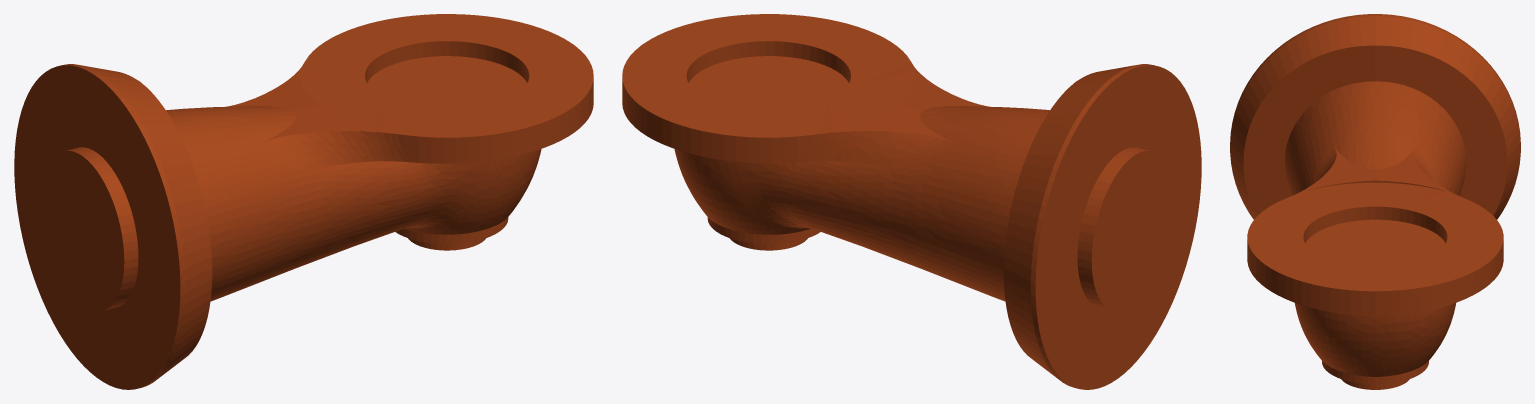
Rendered from like_kr240r2900_link_4_visuals_link_4_Scene_mesh.obj.
The picture shows the model from 3 angles, left to right: view 1: azimuth 30°, elevation 25°; view 2: azimuth 150°, elevation 25°; view 3: azimuth 270°, elevation 25°; orthographic projection. The views are drawn at different scales.
Size of the model in its own units: 0.4394 by 0.2577 by 0.2575.
